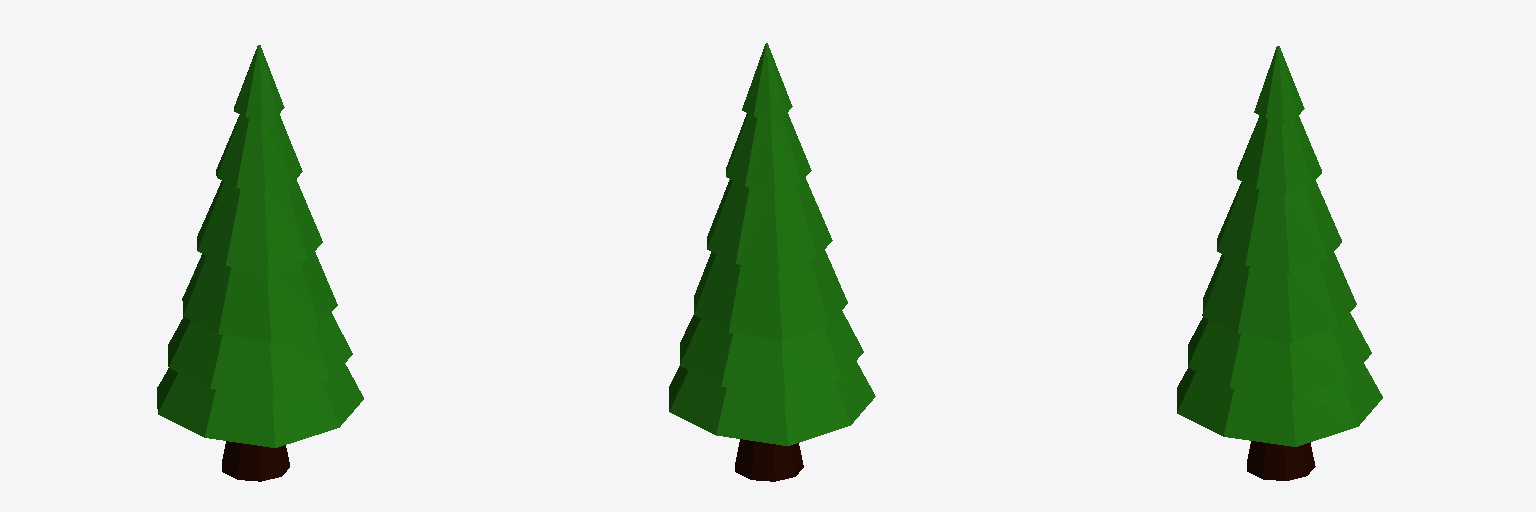
The model's file is tree.obj.
The picture shows the model from 3 angles: view 1: azimuth 30°, elevation 25°; view 2: azimuth 150°, elevation 25°; view 3: azimuth 270°, elevation 25°; orthographic projection.
Bounding box in the file's own units: 2.31 × 5.12 × 2.28.